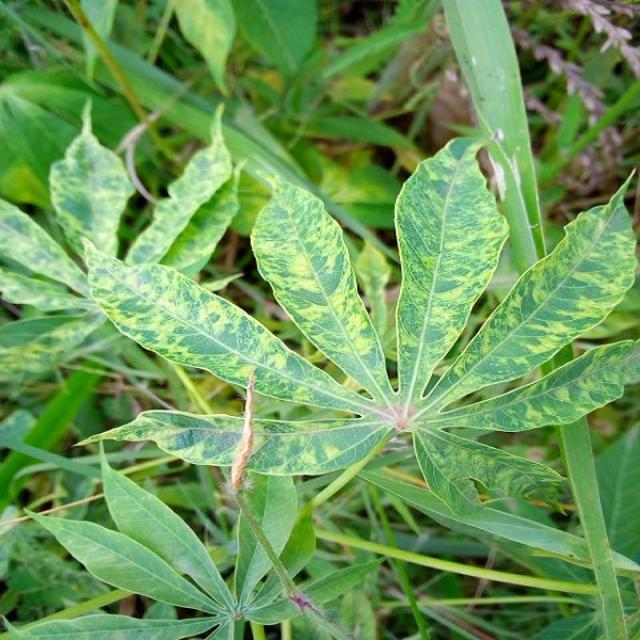cassava leaf: (72, 135, 638, 546), (79, 234, 382, 415), (427, 165, 637, 411), (248, 180, 394, 404), (392, 134, 510, 408)
